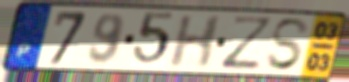5: (130, 11, 178, 71)
7: (51, 9, 89, 67)
9: (86, 12, 125, 67)
H: (166, 15, 225, 70)
S: (264, 17, 312, 73)
Z: (218, 14, 277, 72)
